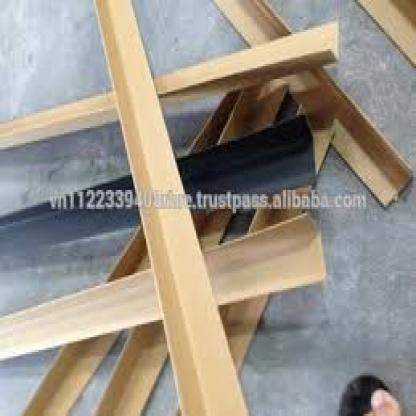Aluminum can: (0, 0, 416, 407)
